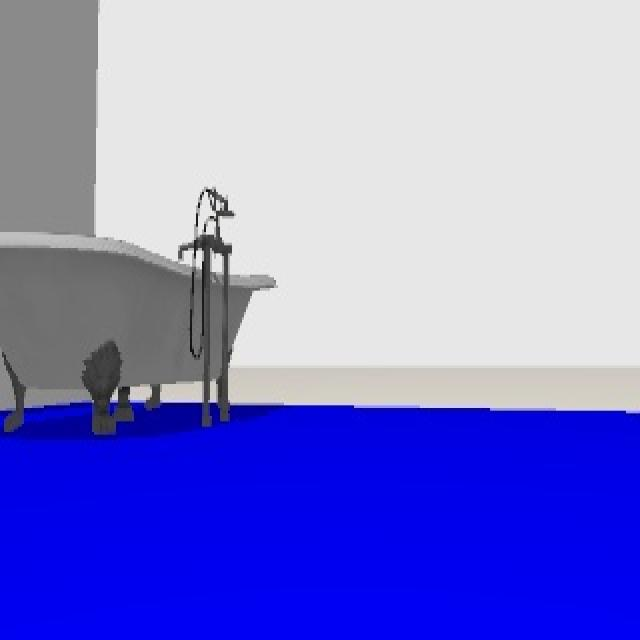bathtub: (0, 188, 278, 435)
